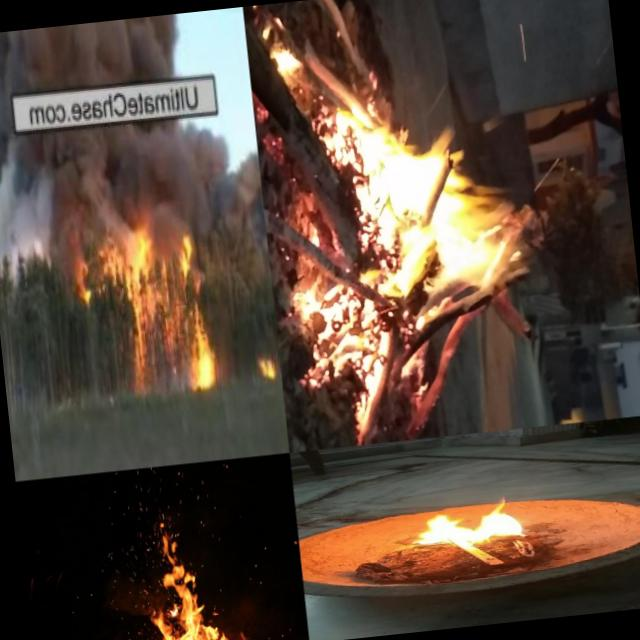fire: (360, 140, 623, 442), (76, 215, 216, 402), (128, 505, 243, 640), (406, 489, 544, 555), (252, 340, 280, 396)
smoke: (133, 112, 263, 256), (0, 127, 89, 269), (76, 123, 142, 228)
